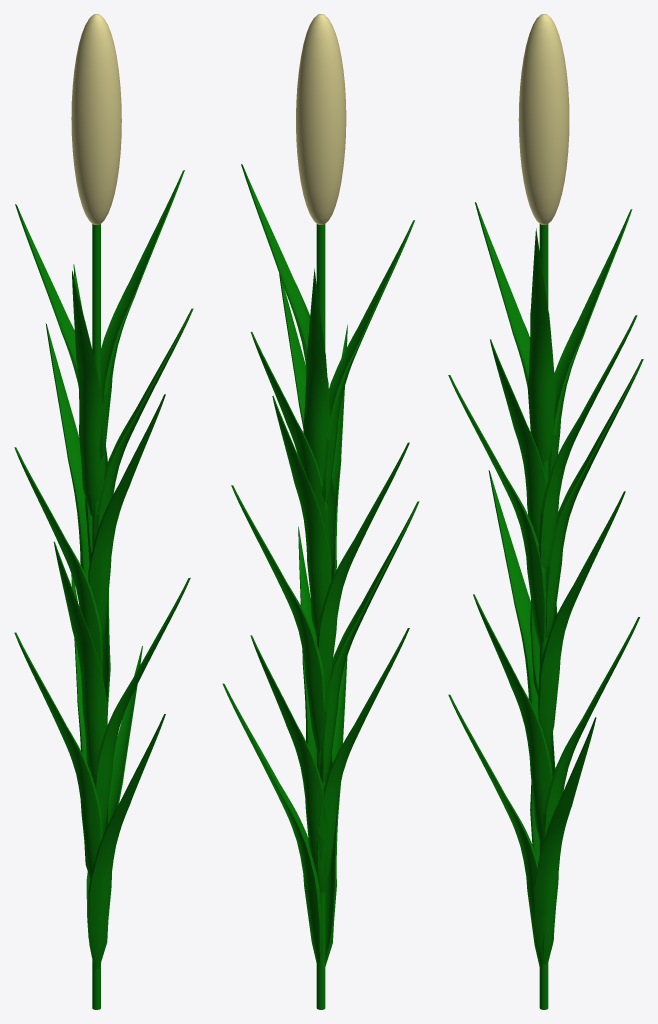
Rendered from Nekojyarasi.fbx.
The picture shows the model from 3 angles, left to right: view 1: azimuth 30°, elevation 25°; view 2: azimuth 150°, elevation 25°; view 3: azimuth 270°, elevation 25°; orthographic projection.
Parts seen in each view (by area): view 1: pPlane24, pSphere2, pCylinder9; view 2: pPlane24, pSphere2, pCylinder9; view 3: pPlane24, pSphere2, pCylinder9.
Boxes of the visible parts, x1=… form: pPlane24: x1=14, y1=170, x2=193, y2=969; pSphere2: x1=71, y1=14, x2=121, y2=224; pCylinder9: x1=92, y1=224, x2=100, y2=1009; pPlane24: x1=222, y1=164, x2=419, y2=966; pSphere2: x1=296, y1=14, x2=346, y2=224; pCylinder9: x1=316, y1=224, x2=325, y2=1009; pPlane24: x1=448, y1=202, x2=643, y2=967; pSphere2: x1=518, y1=14, x2=569, y2=224; pCylinder9: x1=539, y1=224, x2=548, y2=1009.
Size of the model in its own units: 7.64 by 42.71 by 7.63.
